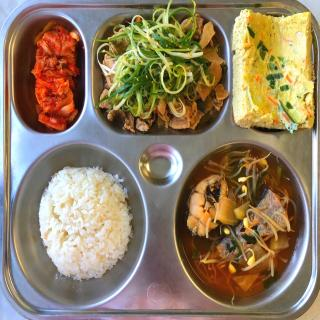Nasi: (37, 161, 137, 289)
